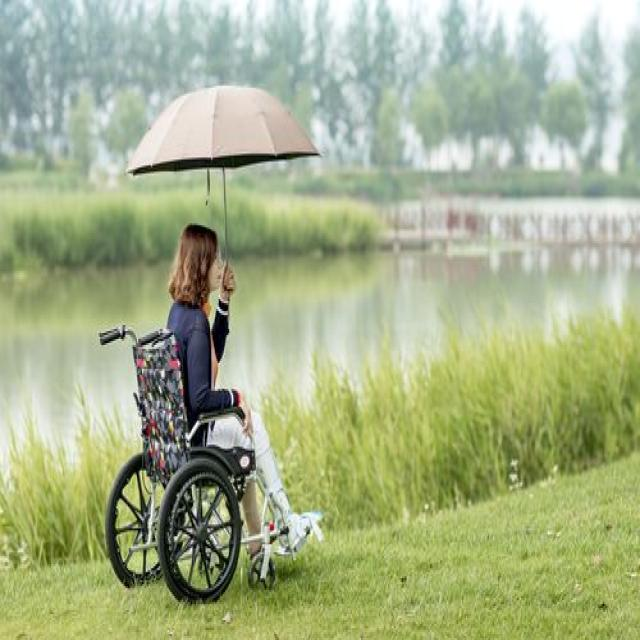wheelchairs: (89, 324, 318, 608)
